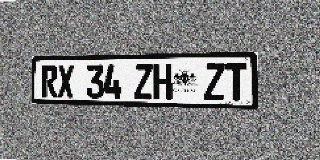3: (87, 65, 104, 99)
4: (104, 64, 121, 99)
H: (153, 64, 172, 100)
R: (42, 65, 57, 98)
T: (226, 63, 247, 101)
X: (58, 65, 74, 98)
Z: (204, 63, 225, 101), (134, 64, 152, 99)
